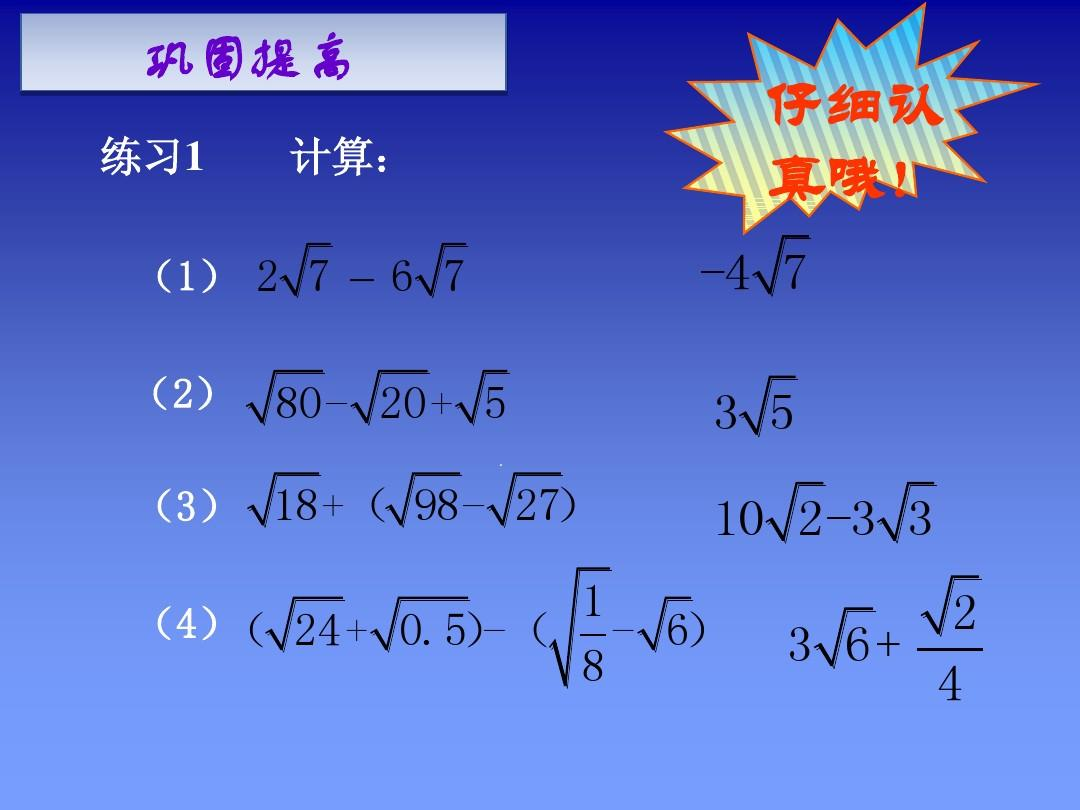division: (915, 641, 988, 660), (578, 626, 604, 644)
sqrt: (545, 562, 621, 693), (249, 361, 341, 433), (374, 590, 470, 656), (263, 589, 349, 658), (387, 462, 461, 539), (921, 565, 989, 641), (485, 467, 569, 528), (764, 475, 834, 547), (814, 599, 884, 671), (877, 478, 947, 546), (742, 368, 803, 441), (259, 470, 334, 528), (752, 231, 815, 294), (364, 360, 427, 422), (286, 233, 338, 308), (451, 365, 519, 422), (640, 593, 700, 655), (417, 239, 470, 297)
